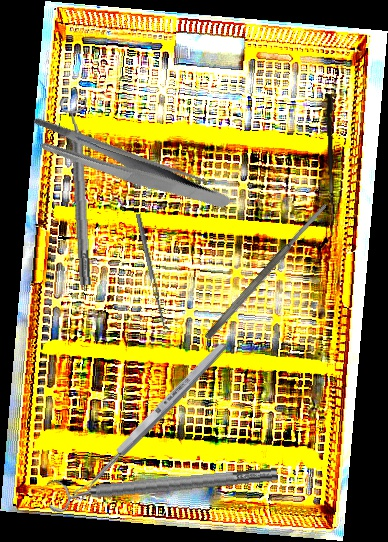Dressing Forceps: (23, 77, 233, 257)
Fixation Ring: (46, 458, 280, 514), (59, 96, 99, 286)
Hook Surgical: (324, 93, 340, 237)
Scalpel Handle: (73, 133, 209, 185)
Spatula Surgical: (203, 200, 331, 342), (135, 212, 172, 332)
Surgical Spoon: (70, 339, 230, 504)
